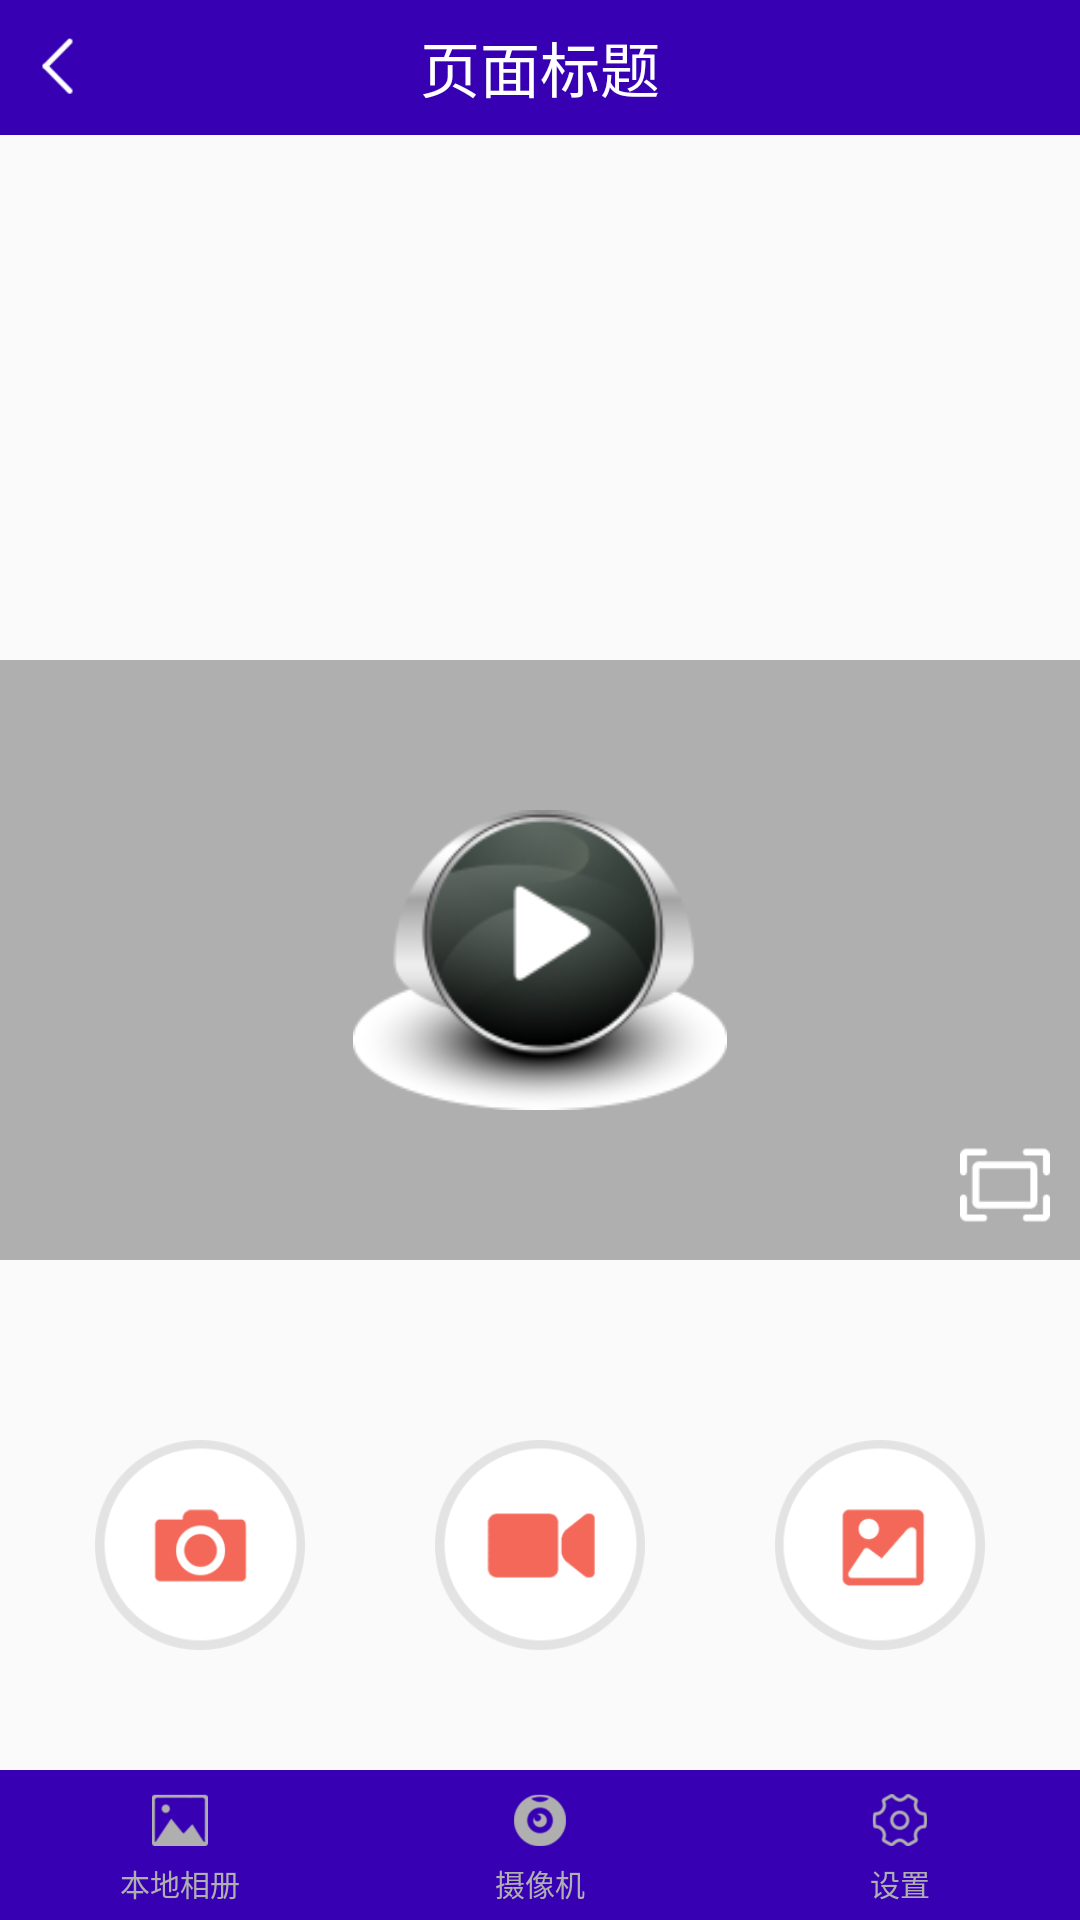

Locate icon controls on the screen. Image size 1080*1920, boxes as (x1, y1, x2, y2).
arrow: (42, 38, 73, 94)
fullscreen: (960, 1148, 1050, 1222)
record: (487, 1513, 595, 1578)
remote pic: (842, 1509, 924, 1586)
takepic: (155, 1509, 247, 1582)
